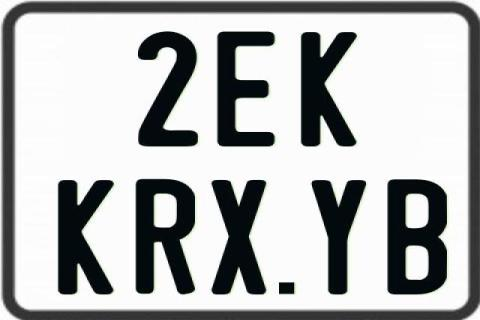0: (138, 32, 199, 152)
B: (387, 178, 450, 294)
E: (217, 29, 276, 144)
K: (57, 180, 117, 294), (300, 30, 356, 148)
R: (134, 178, 199, 298)
X: (210, 178, 264, 294)
Y: (311, 178, 368, 296)
